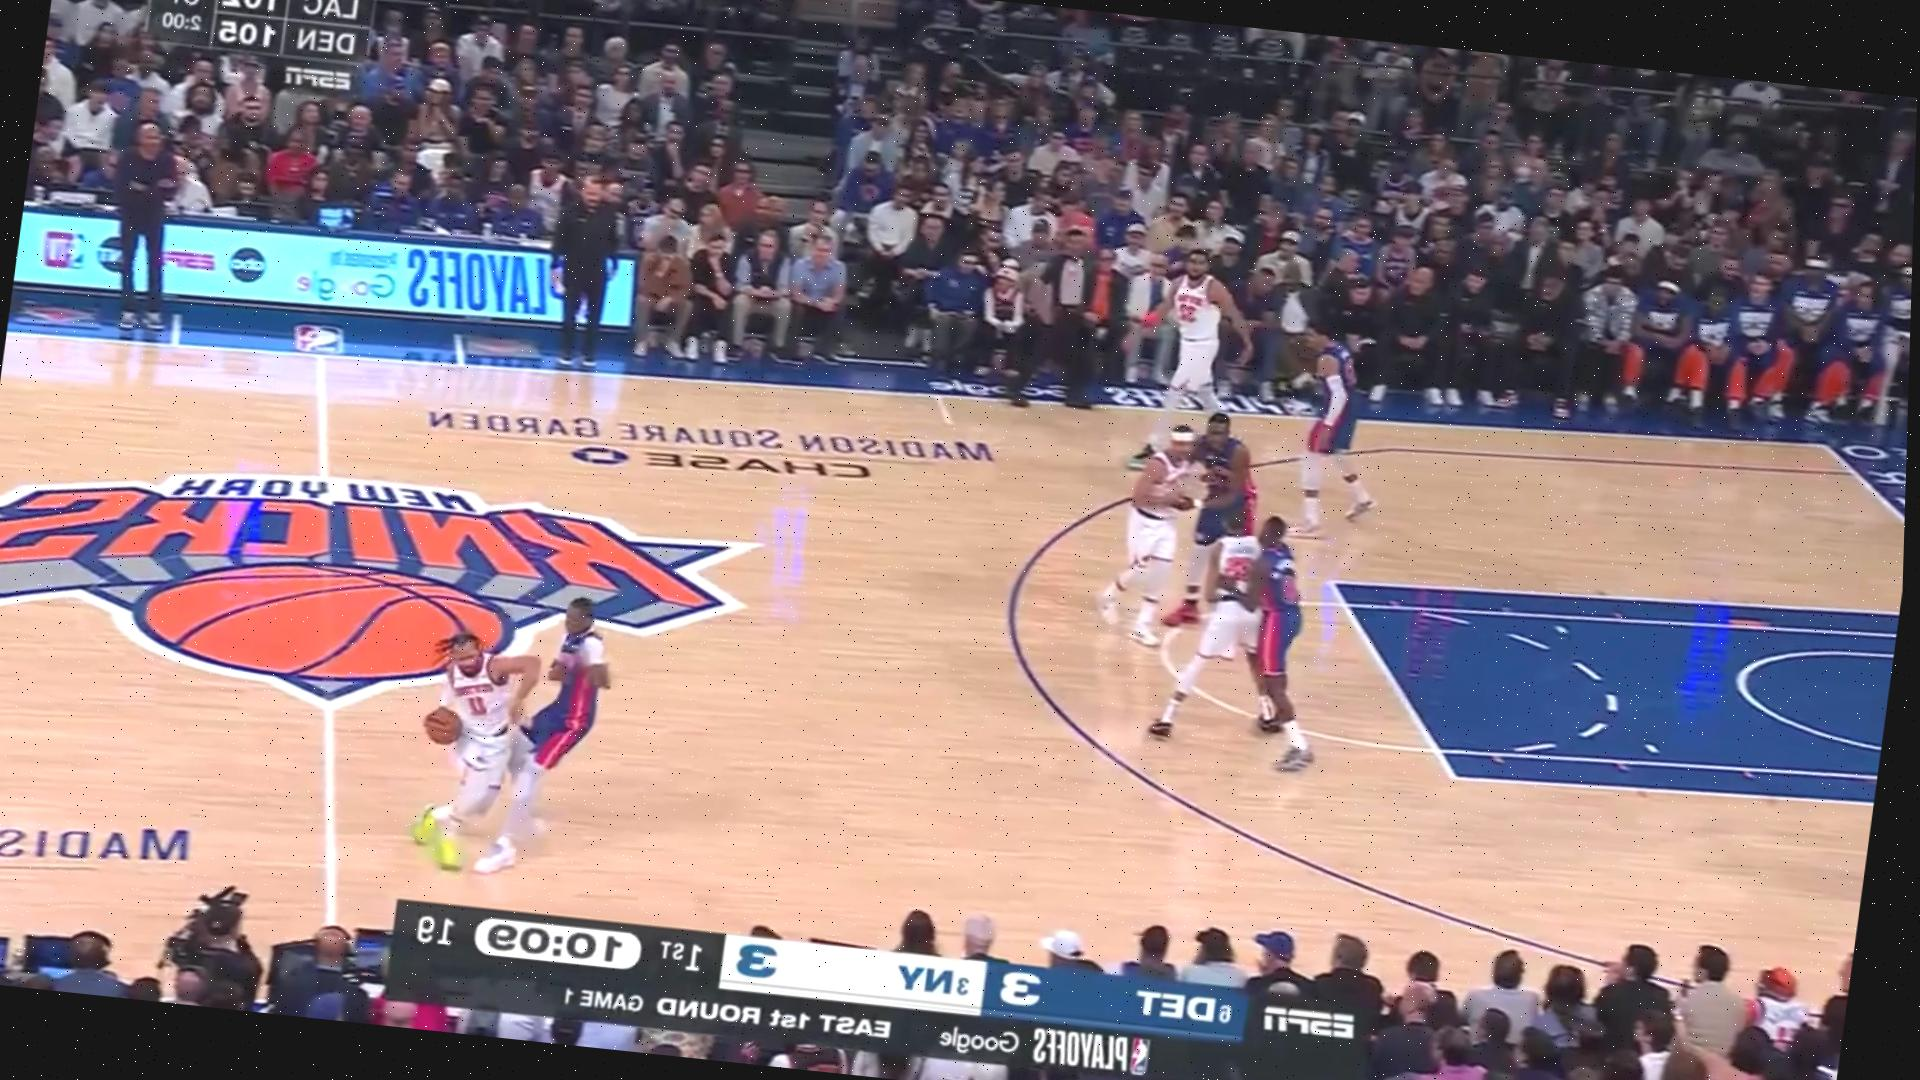foul: (368, 563, 641, 910)
